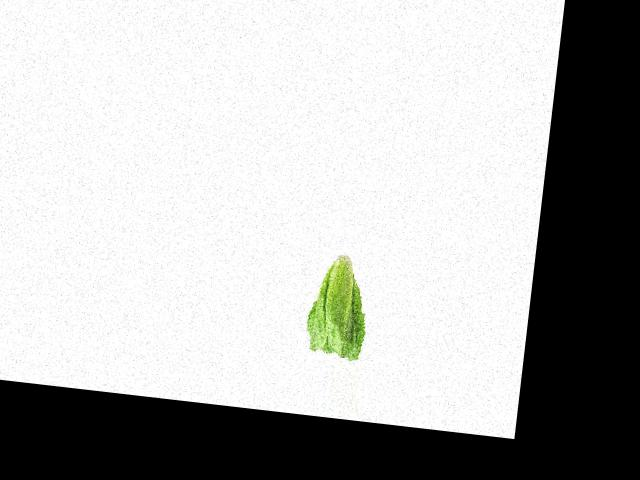lettuce: (296, 252, 376, 362)
